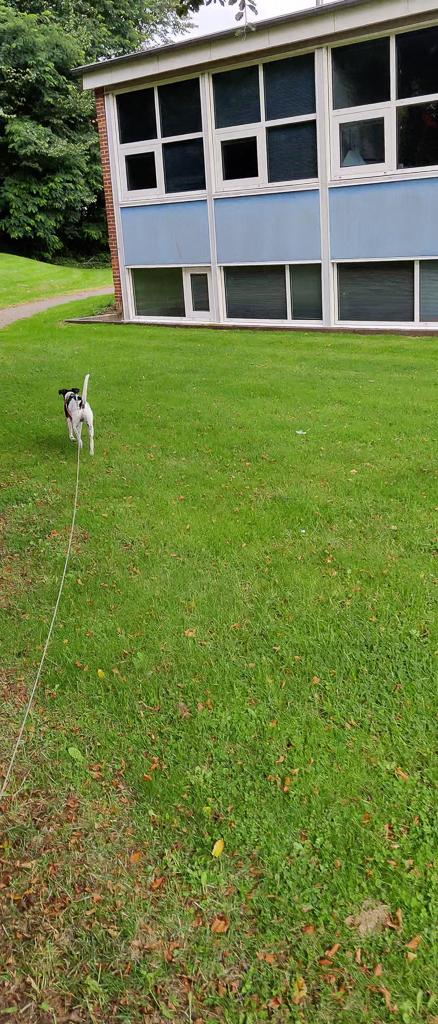Dog: (52, 369, 109, 459)
